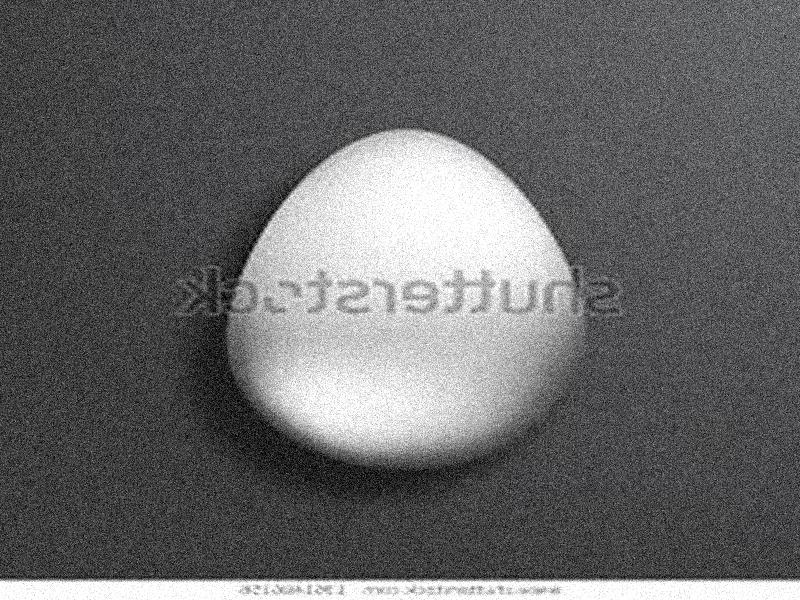Eggs: (227, 126, 585, 466)
